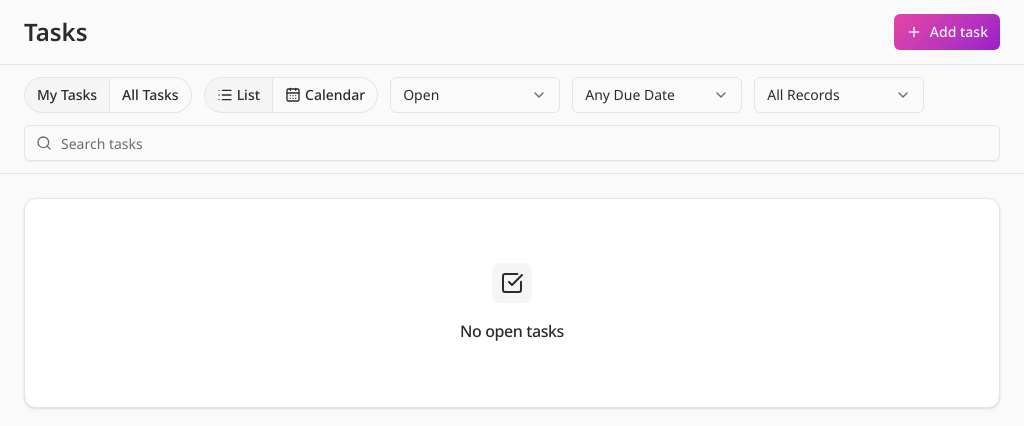
TasksPage › replaces Show completed with the Status filter
Expected: the text "No open tasks" is shown, [460,319,564,343]
Click the dropdown named "Filter by status" at (475, 95), box [390,77,560,113]
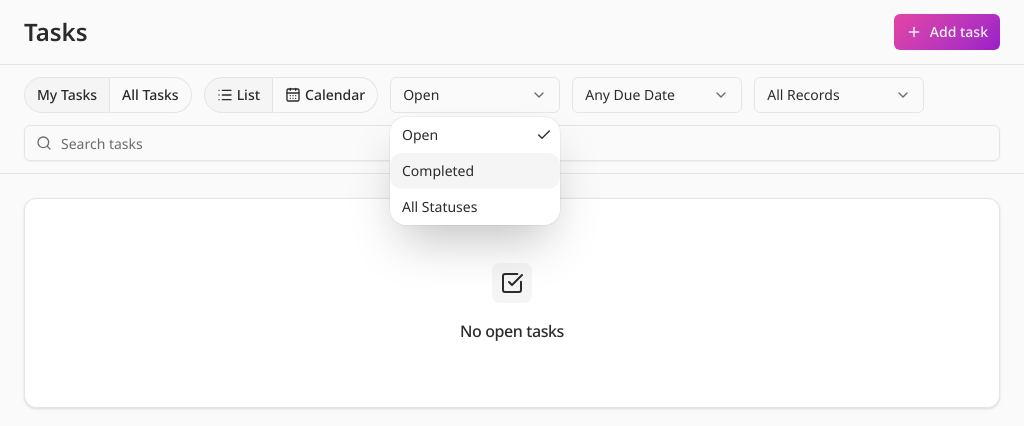
Click the option "Completed" at (475, 171), box [390,153,560,189]
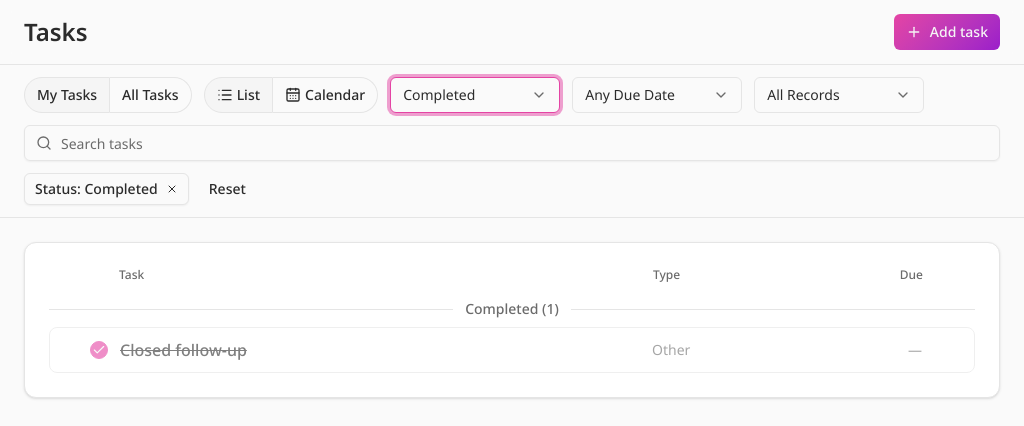
Now the text "Closed follow-up" is shown, box [120,339,247,361]
Now the heading "Completed (1)" is shown, box [465,299,559,319]
Now the checkbox named "Mark task Closed follow-up incomplete" is checked, box [90,341,108,359]
